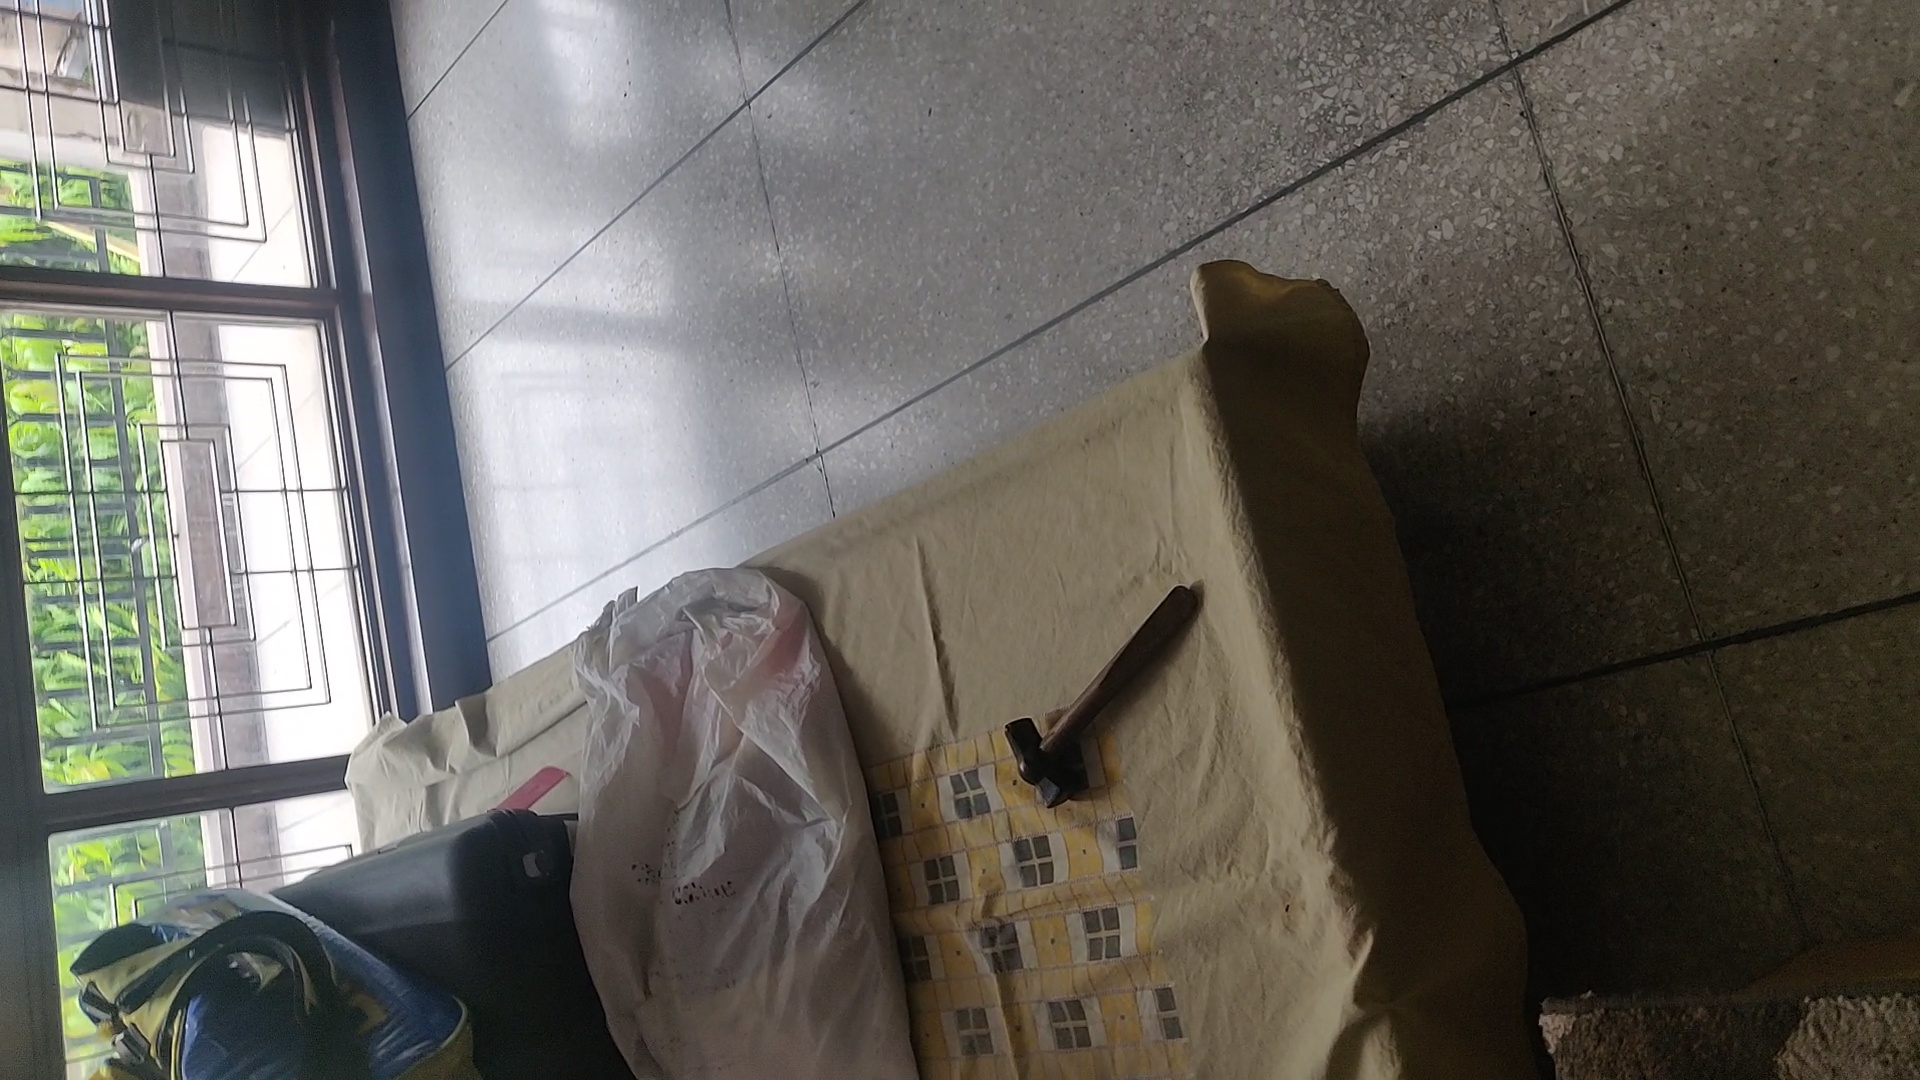hammer: (998, 582, 1203, 814)
